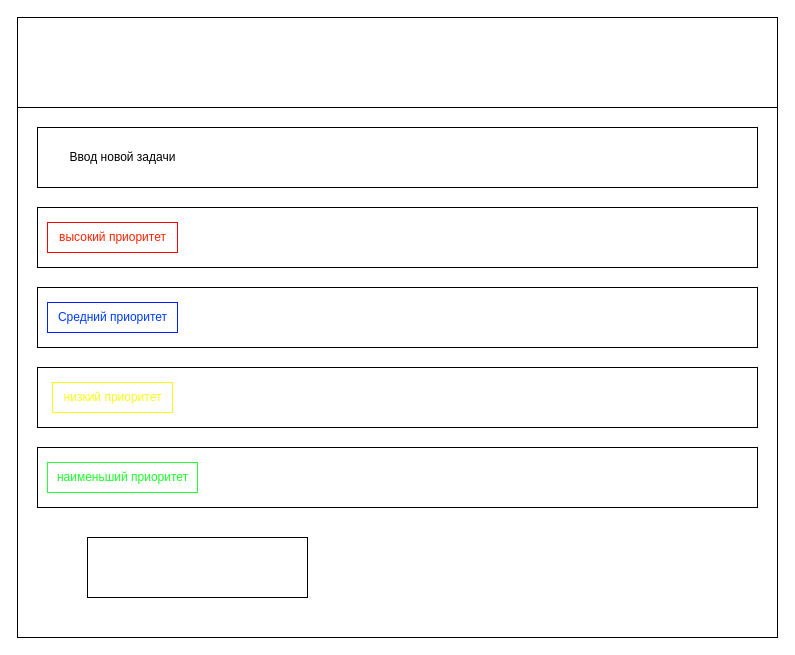
Image size: 795x655. Some labels were removed from this diagram. Here are the shapes that lost their labels. From the top down, the box of each, then its label:
(16, 16, 778, 108): Приложение
(86, 536, 308, 598): Добавить
